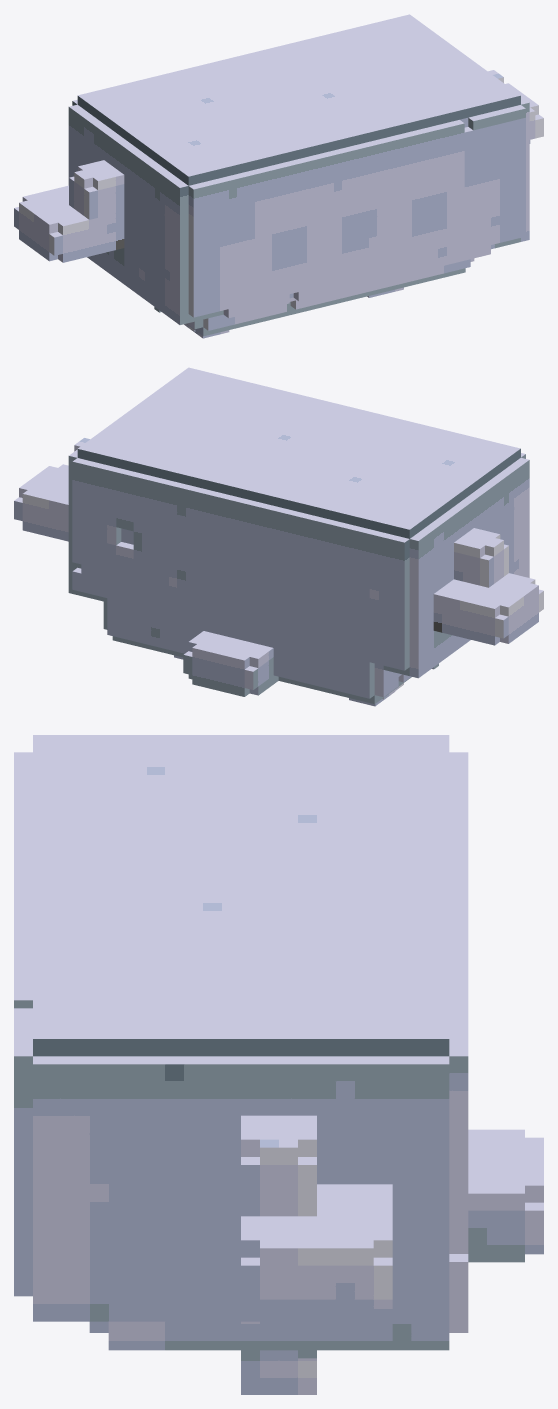
Rendered from owl_statue_drapesao.fezao.glb.
3 renders of one model, top to bottom at view 1: azimuth 30°, elevation 25°; view 2: azimuth 150°, elevation 25°; view 3: azimuth 270°, elevation 25°, orthographic. The views are drawn at different scales.
Parts seen in each view (by area): view 1: OWL_STATUE_DRAPESAO; view 2: OWL_STATUE_DRAPESAO; view 3: OWL_STATUE_DRAPESAO.
Part boxes in pixels (bbox=[...]): OWL_STATUE_DRAPESAO: bbox=[14, 14, 543, 338]; OWL_STATUE_DRAPESAO: bbox=[14, 367, 543, 706]; OWL_STATUE_DRAPESAO: bbox=[14, 735, 543, 1394].
Size of the model in its own units: 3.5 by 1.5 by 1.75.
Materials: 1 (1 with a texture image).
